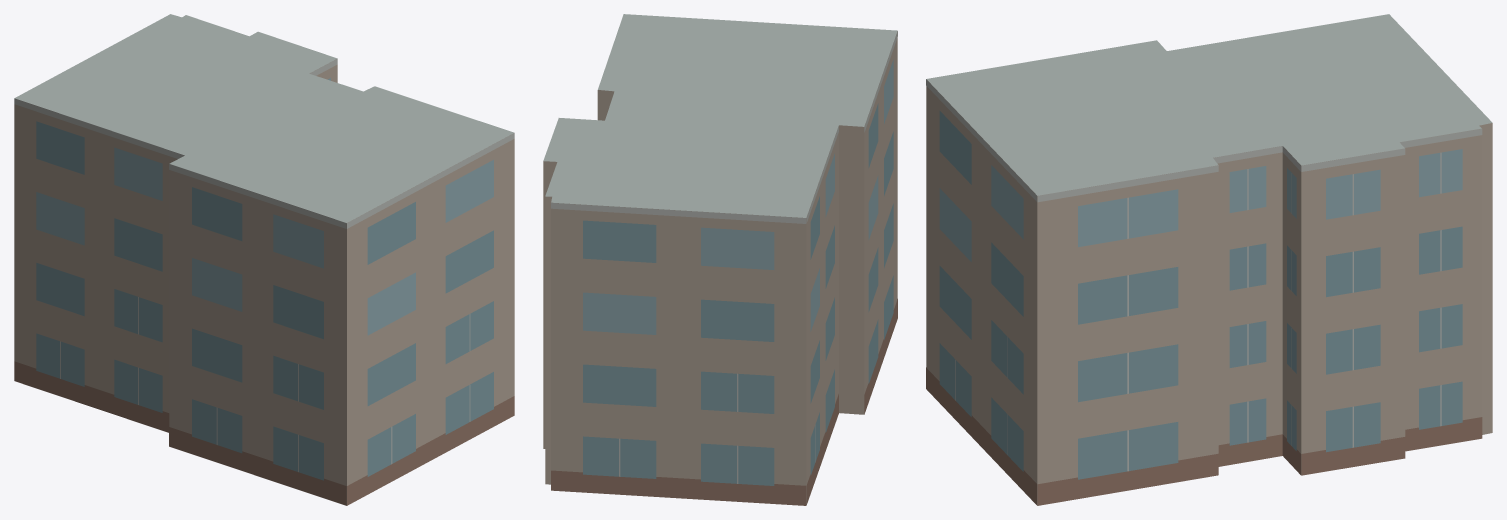
Rendered from survey-upis-32889629.glb.
The picture shows the model from 3 angles, left to right: view 1: azimuth 30°, elevation 25°; view 2: azimuth 150°, elevation 25°; view 3: azimuth 270°, elevation 25°; orthographic projection. The views are drawn at different scales.
Visible parts, largest first — view 1: survey-upis-32889629.tmp; view 2: survey-upis-32889629.tmp; view 3: survey-upis-32889629.tmp.
Part boxes in pixels (x1=…): survey-upis-32889629.tmp: x1=14, y1=14, x2=514, y2=505; survey-upis-32889629.tmp: x1=543, y1=14, x2=897, y2=505; survey-upis-32889629.tmp: x1=926, y1=14, x2=1492, y2=505.
Size of the model in its own units: 14.6 by 11.6 by 19.22.
